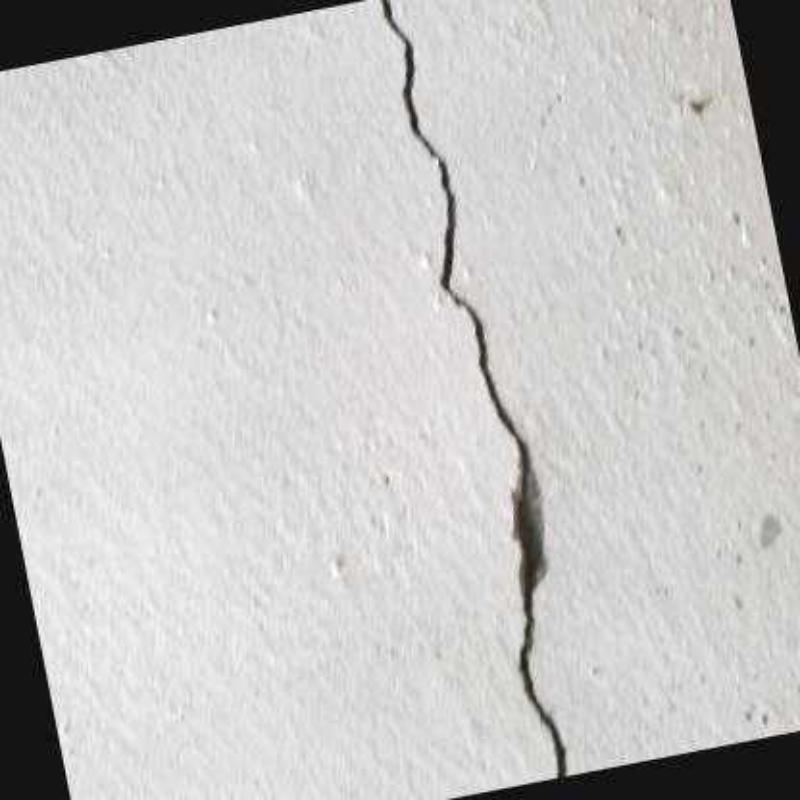pothole: (380, 0, 566, 777)
